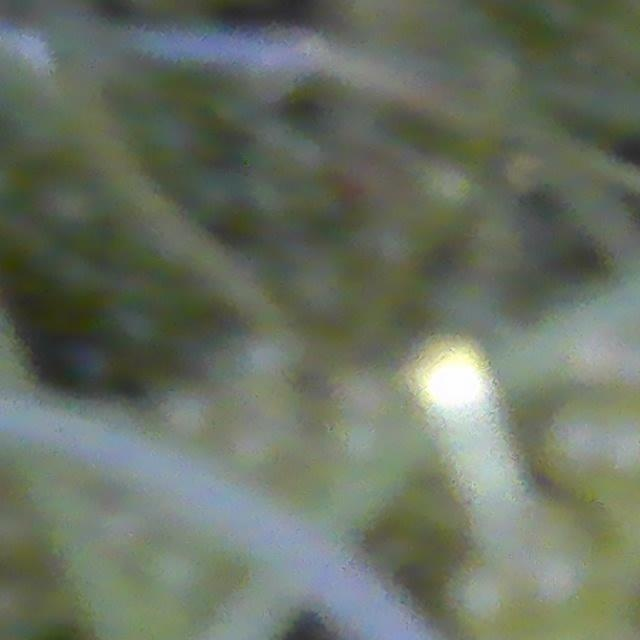SeaGrape: (513, 516, 605, 595), (451, 562, 526, 640), (551, 420, 609, 483)
